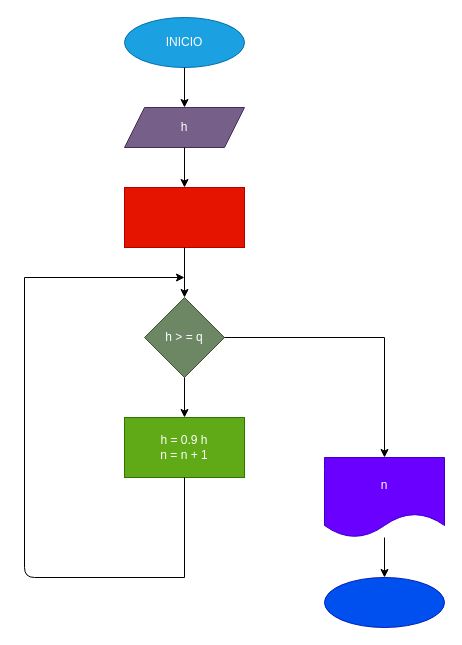
The diagram is 462 pixels wide and 645 high, and some of its shapes have lost their labels. Here are the shapes that lost their labels. From the top down, the centre of each, then its label:
At pixel 184 217: "q = h / 5 n = o".
At pixel 384 602: "FIN".
